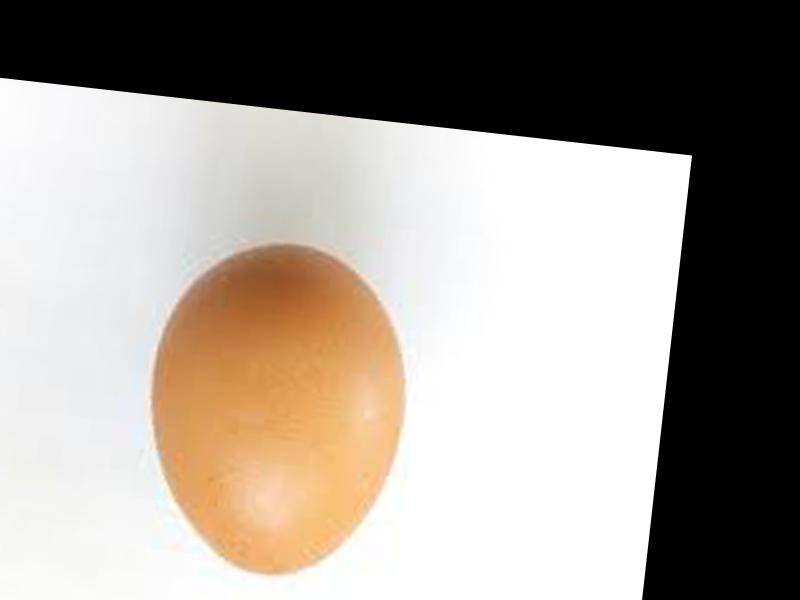Eggs: (129, 226, 419, 593)
